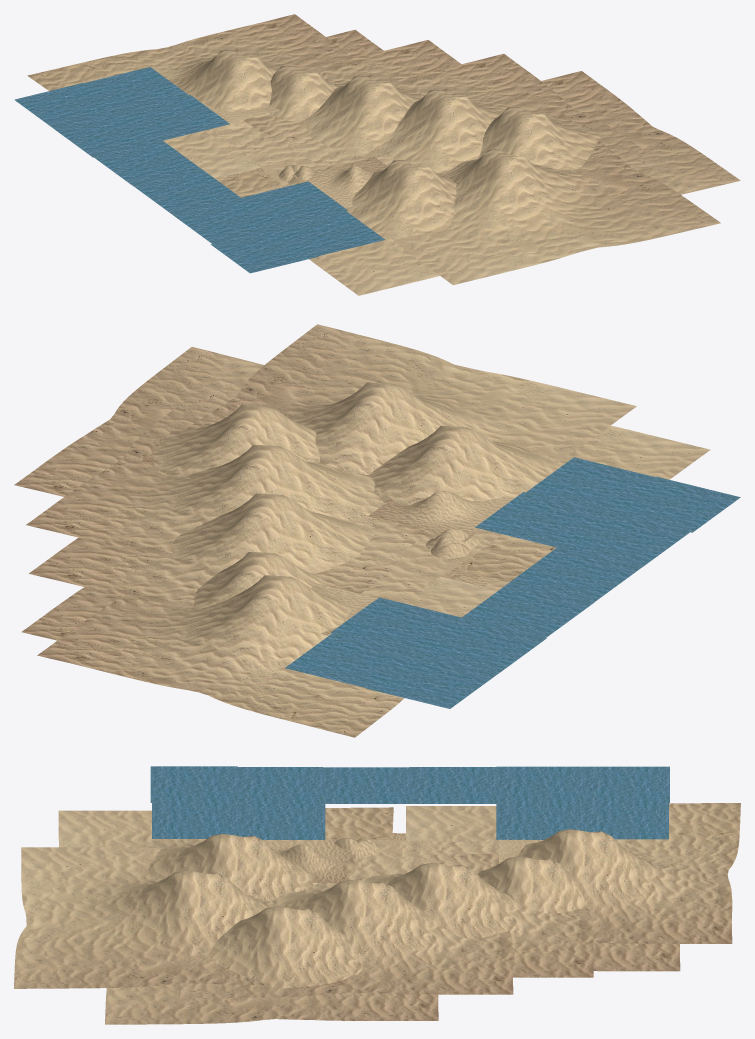
File: surround.obj
3 views of the same model, one above another, from view 1: azimuth 30°, elevation 25°; view 2: azimuth 150°, elevation 25°; view 3: azimuth 270°, elevation 25° (orthographic). The views are drawn at different scales.
Parts seen in each view (by area): view 1: Plane001.023, Plane001.021, Plane001.020, Plane001.022, Plane001.018, Plane001.024, Plane001.019, Plane001.028, Plane001.011, Plane001.008, Plane001.012, Plane001.010 (+7 smaller); view 2: Plane001.023, Plane001.020, Plane001.021, Plane001.018, Plane001.022, Plane001.024, Plane001.019, Plane001.027, Plane001.012, Plane001.008, Plane001.011, Plane001.010 (+9 smaller); view 3: Plane001.023, Plane001.020, Plane001.021, Plane001.022, Plane001.018, Plane001.024, Plane001.019, Plane001.011, Plane001.026, Plane001.027, Plane001.010, Plane001.008 (+7 smaller).
Boxes of the visible parts, bbox=[...] form: Plane001.023: bbox=[314, 113, 720, 285]; Plane001.021: bbox=[243, 53, 662, 174]; Plane001.020: bbox=[27, 14, 351, 178]; Plane001.022: bbox=[478, 71, 740, 194]; Plane001.018: bbox=[204, 40, 461, 186]; Plane001.024: bbox=[218, 160, 456, 295]; Plane001.019: bbox=[216, 29, 383, 180]; Plane001.028: bbox=[277, 210, 384, 256]; Plane001.011: bbox=[53, 112, 161, 157]; Plane001.008: bbox=[134, 169, 240, 215]; Plane001.012: bbox=[122, 95, 229, 140]; Plane001.010: bbox=[94, 140, 201, 186]; Plane001.023: bbox=[140, 324, 636, 538]; Plane001.020: bbox=[37, 575, 498, 737]; Plane001.021: bbox=[26, 386, 423, 593]; Plane001.018: bbox=[29, 493, 502, 610]; Plane001.022: bbox=[14, 347, 319, 496]; Plane001.024: bbox=[369, 425, 710, 582]; Plane001.019: bbox=[21, 552, 508, 640]; Plane001.027: bbox=[608, 477, 740, 532]; Plane001.012: bbox=[331, 597, 462, 653]; Plane001.008: bbox=[510, 547, 642, 602]; Plane001.011: bbox=[415, 618, 546, 673]; Plane001.010: bbox=[462, 582, 593, 637]; Plane001.023: bbox=[14, 847, 355, 988]; Plane001.020: bbox=[406, 803, 740, 943]; Plane001.021: bbox=[179, 853, 513, 998]; Plane001.022: bbox=[105, 906, 438, 1024]; Plane001.018: bbox=[267, 838, 593, 977]; Plane001.024: bbox=[58, 807, 393, 901]; Plane001.019: bbox=[396, 833, 680, 971]; Plane001.011: bbox=[496, 766, 583, 803]; Plane001.026: bbox=[582, 766, 669, 803]; Plane001.027: bbox=[150, 766, 237, 802]; Plane001.010: bbox=[409, 767, 496, 803]; Plane001.008: bbox=[323, 767, 409, 803].
Size of the model in its own units: 74.71 by 8.37 by 91.35.
Materials: 4 (4 with a texture image).
